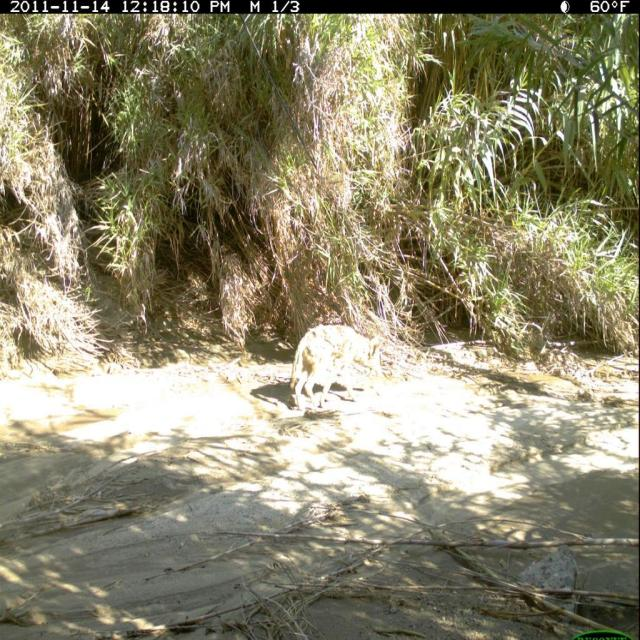coyote: (284, 319, 391, 419)
